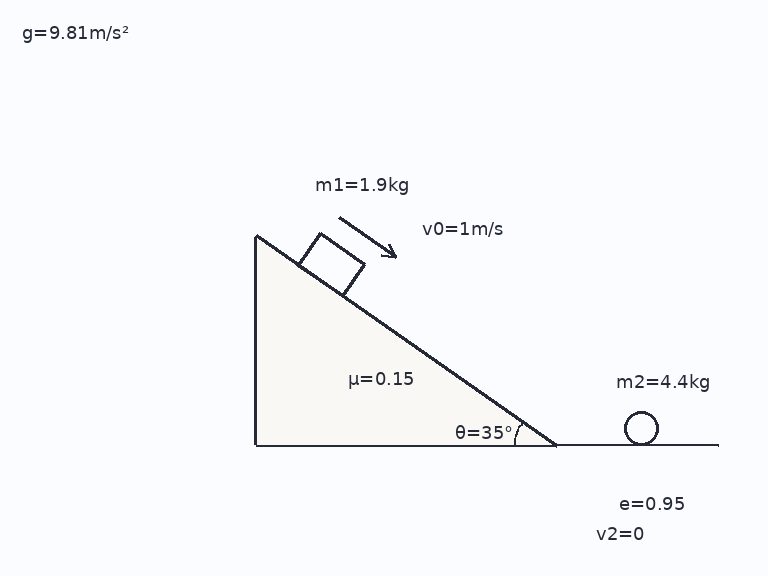ball: (622, 409, 660, 447)
block: (296, 231, 366, 298)
ramp: (254, 234, 557, 447)
